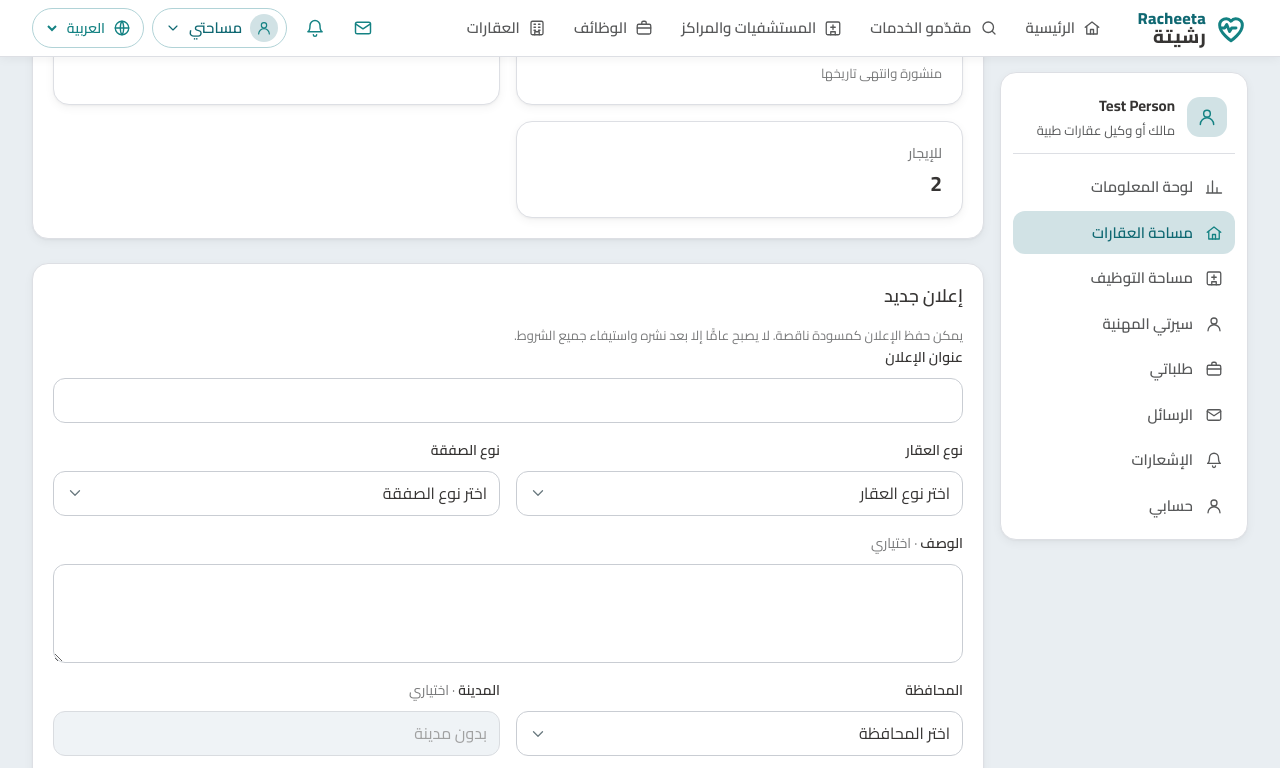
Test case: Seller workspace › shows backend validation errors on the form fields
(page scrolled)
Type "T" into the field labelled "عنوان الإعلان" at (508, 400), box [53,378,963,423]
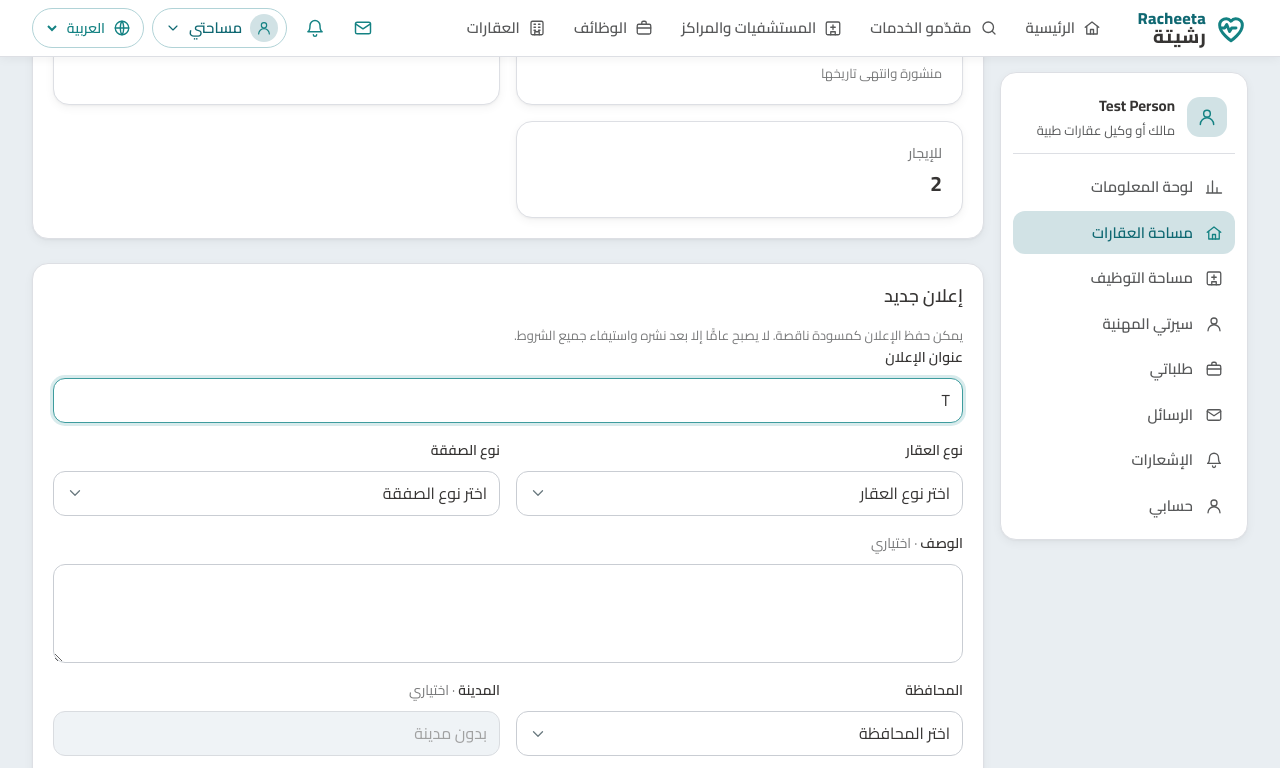
Select "عيادة" in the dropdown labelled "نوع العقار" at (740, 493), box [516,471,963,516]
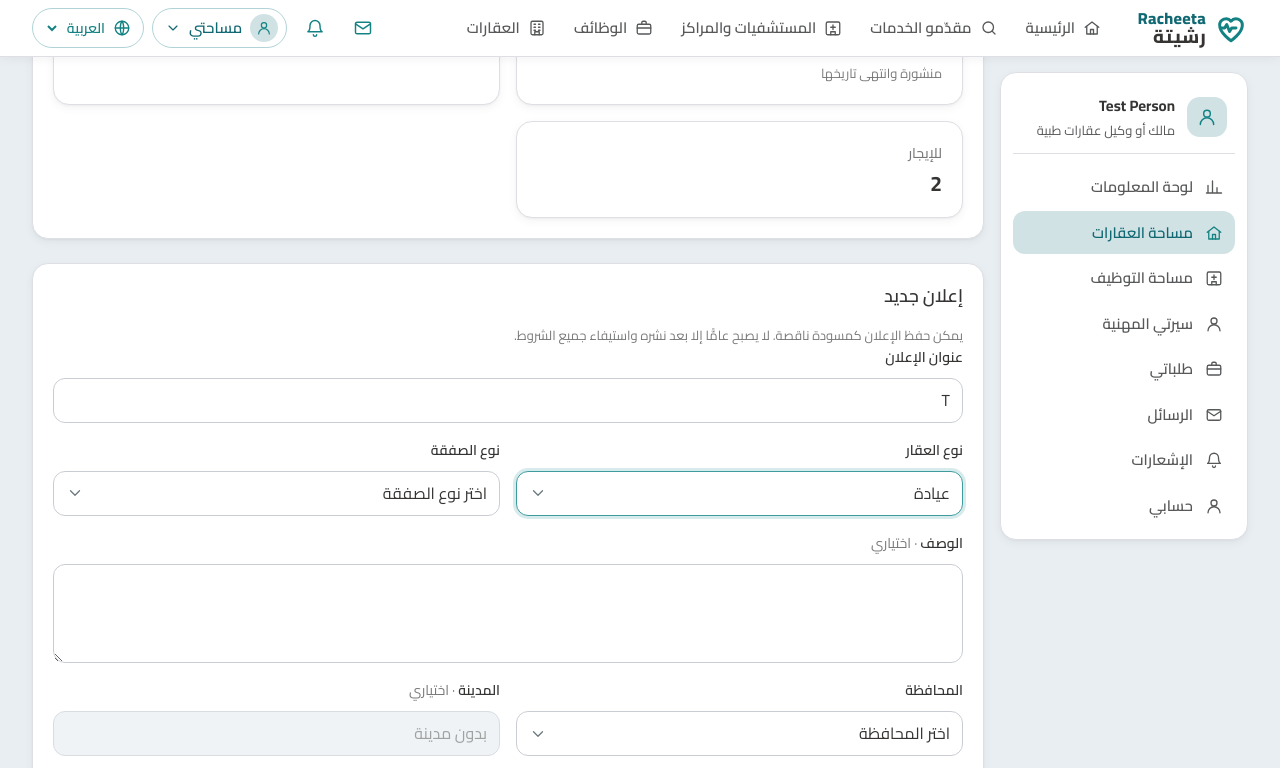
Select "للبيع" in the dropdown labelled "نوع الصفقة" at (276, 493), box [53,471,500,516]
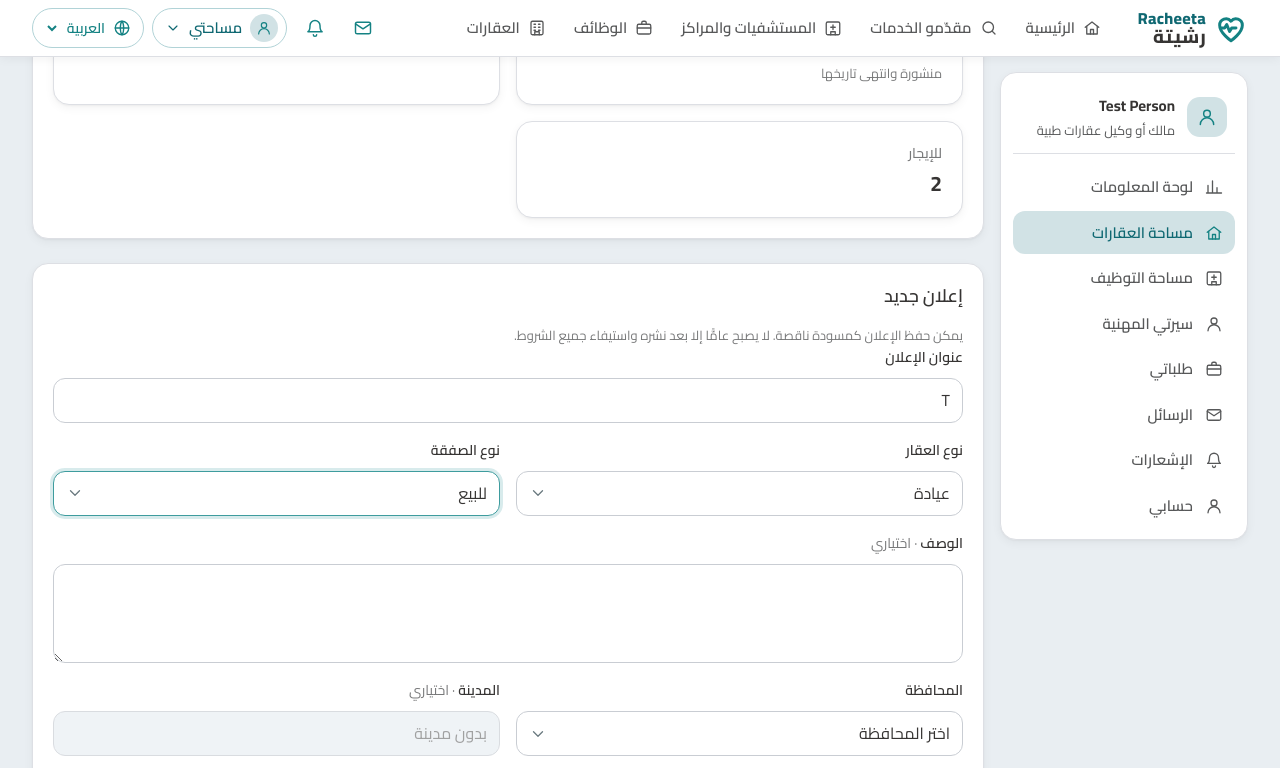
Select "بغداد" in the dropdown labelled "المحافظة" at (740, 734), box [516,711,963,756]
(page scrolled)
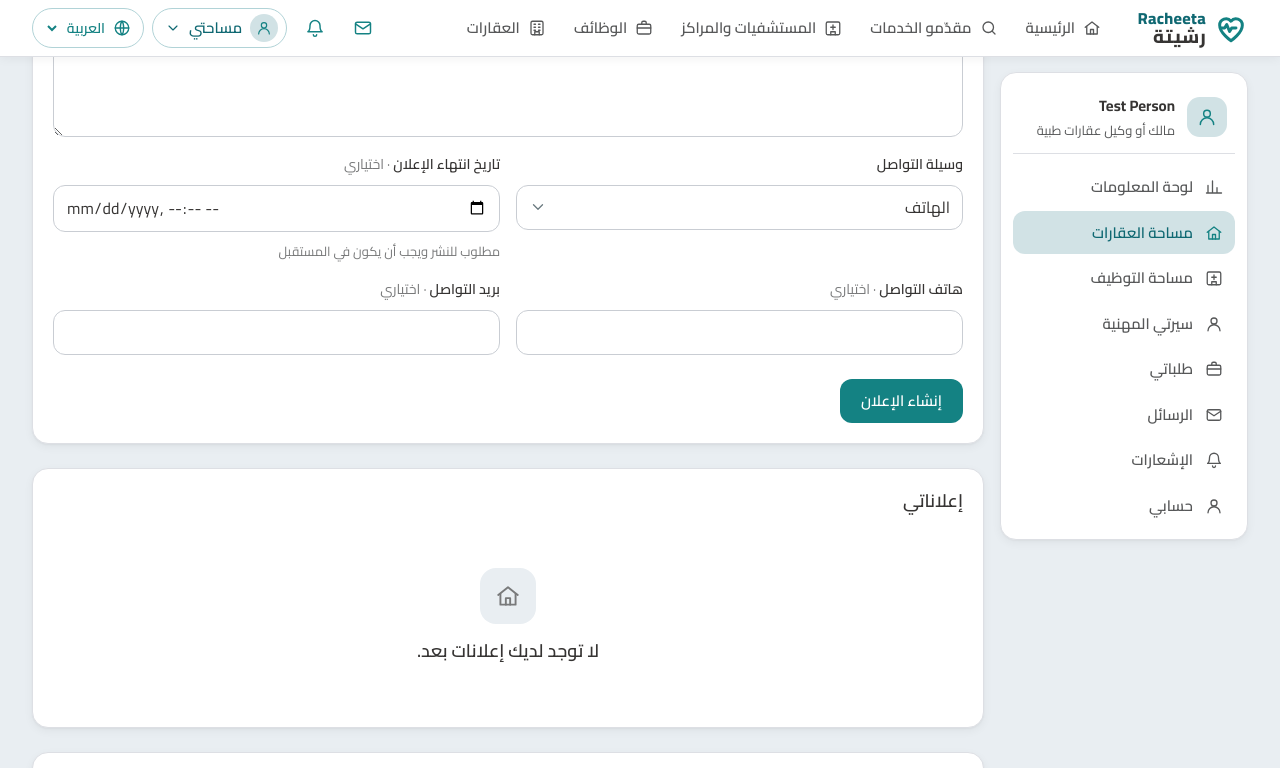
Click the button "إنشاء الإعلان" at (901, 401), box [840,379,963,423]
(page scrolled)
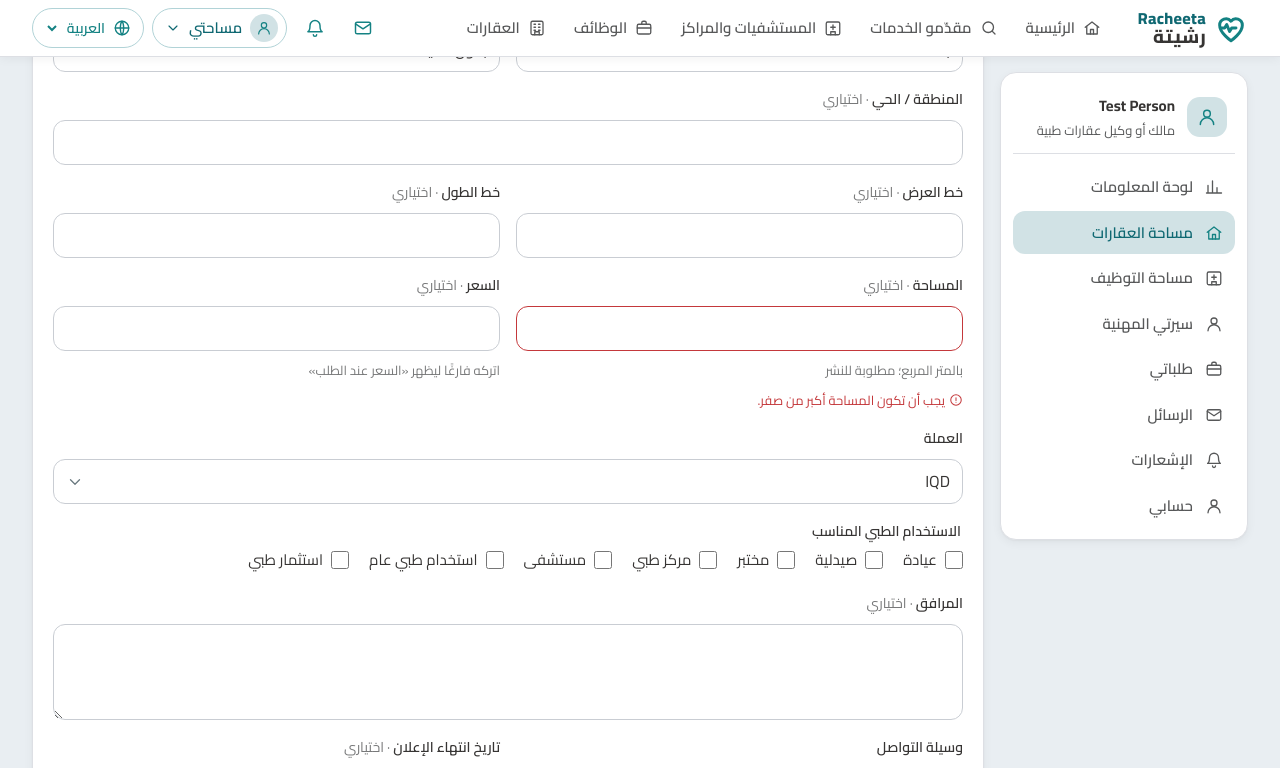
Result: the text "يجب أن تكون المساحة أكبر من صفر." is shown at [758,388,963,412]
